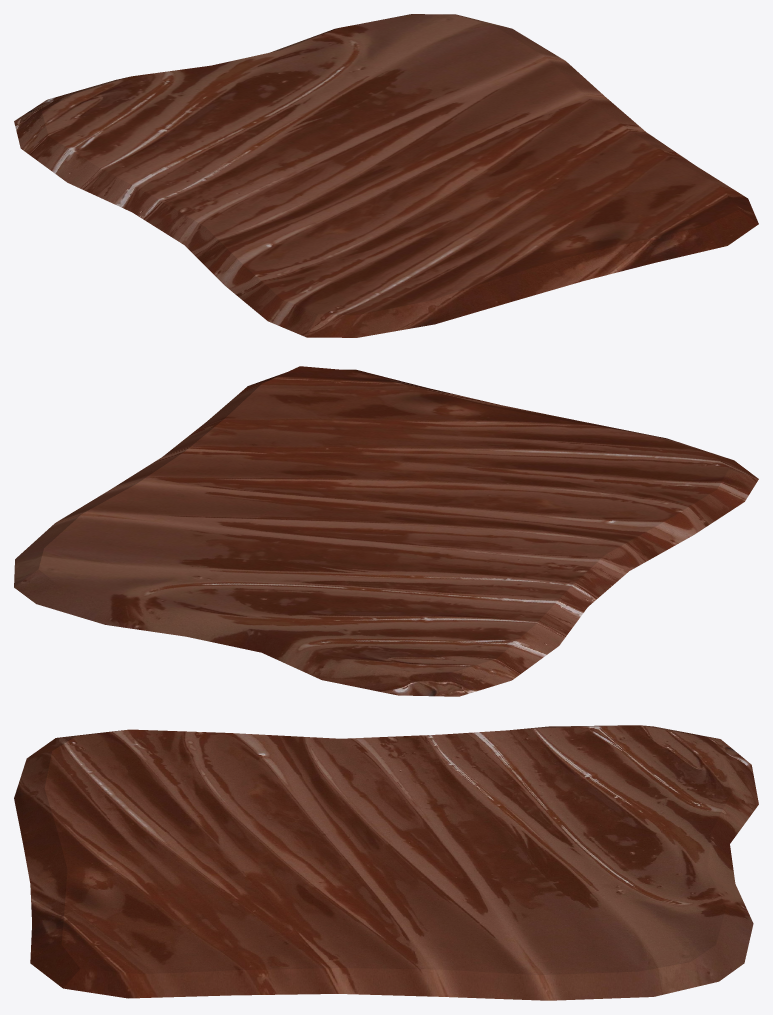
The model's file is chocilate.fbx.
3 renders of one model, top to bottom at view 1: azimuth 30°, elevation 25°; view 2: azimuth 150°, elevation 25°; view 3: azimuth 270°, elevation 25°, orthographic. The views are drawn at different scales.
Parts seen in each view (by area): view 1: chcolate; view 2: chcolate; view 3: chcolate.
Part boxes in pixels (x1,y1,x2,y2): chcolate: (14, 14, 758, 337); chcolate: (14, 366, 758, 696); chcolate: (14, 725, 758, 1000).
Bounding box in the file's own units: 0.7237 × 0.0162 × 0.8306.
Materials: 1 (1 with a texture image).
